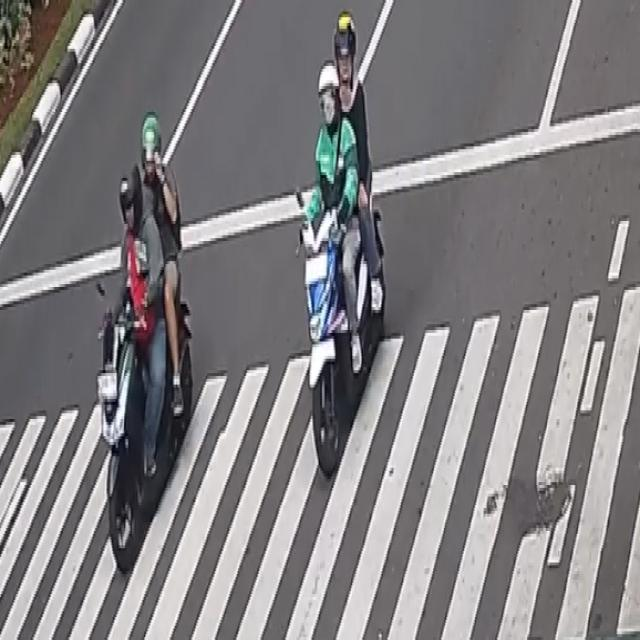helm: (118, 162, 144, 240), (332, 13, 358, 90), (316, 61, 342, 134), (142, 114, 162, 189)
motor: (97, 110, 194, 577), (296, 10, 388, 483)
spion: (130, 266, 150, 318), (96, 277, 112, 331), (334, 170, 346, 218), (296, 183, 307, 229)
